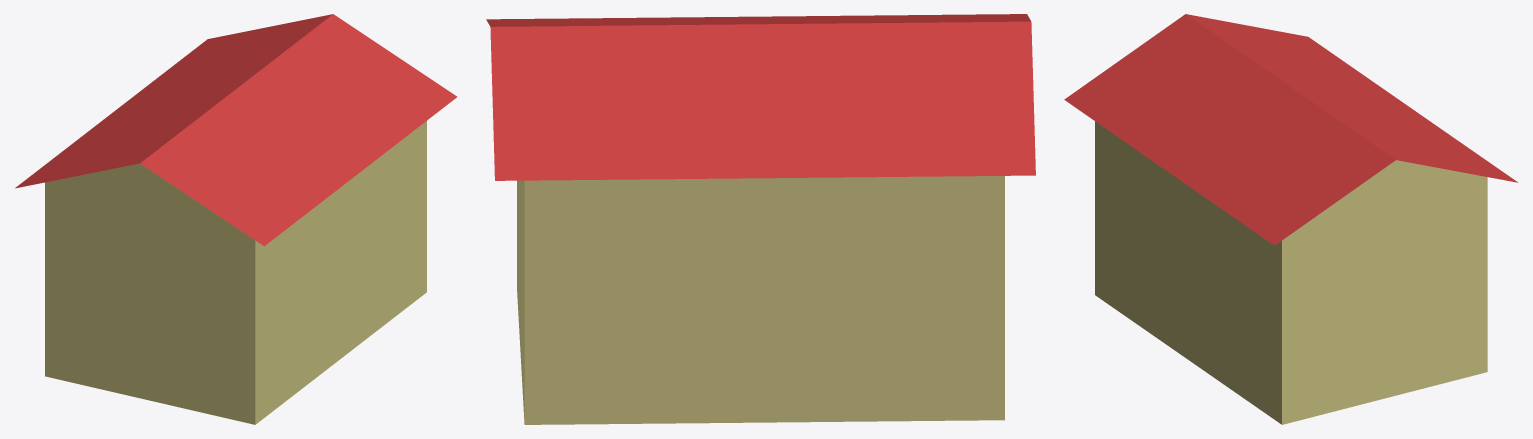
3 views of the same model, side by side, from view 1: azimuth 30°, elevation 25°; view 2: azimuth 150°, elevation 25°; view 3: azimuth 270°, elevation 25° (orthographic). The views are drawn at different scales.
Size of the model in its own units: 16.39 by 15.08 by 9.02.
